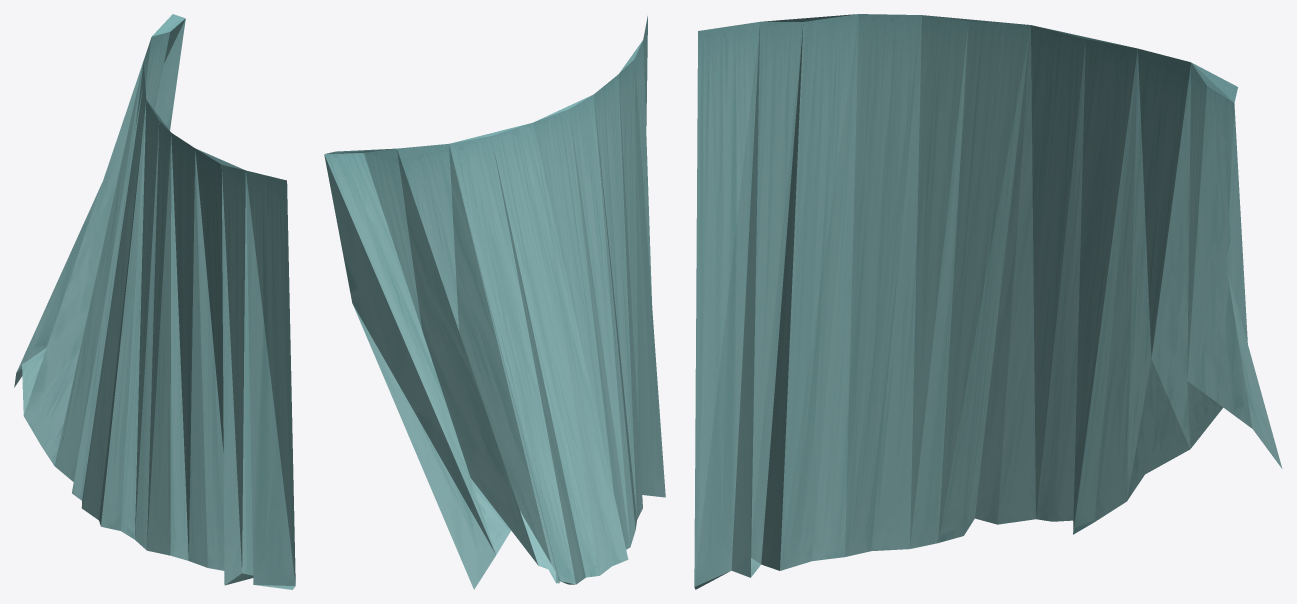
File: curtain1_05.glb
3 renders of one model, left to right at view 1: azimuth 30°, elevation 25°; view 2: azimuth 150°, elevation 25°; view 3: azimuth 270°, elevation 25°, orthographic. The views are drawn at different scales.
Visible parts, largest first — view 1: CURTAIN1.small.001; view 2: CURTAIN1.small.001; view 3: CURTAIN1.small.001.
Boxes of the visible parts, x1=… form: CURTAIN1.small.001: x1=14, y1=14, x2=295, y2=589; CURTAIN1.small.001: x1=324, y1=16, x2=665, y2=589; CURTAIN1.small.001: x1=694, y1=14, x2=1282, y2=589.
Bounding box in the file's own units: 1.58 × 3.46 × 3.3.
1 material, 1 textured.
